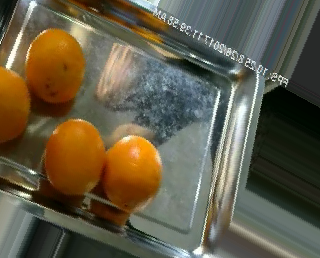Orange: (43, 116, 105, 197), (24, 26, 85, 104), (104, 134, 164, 213)
